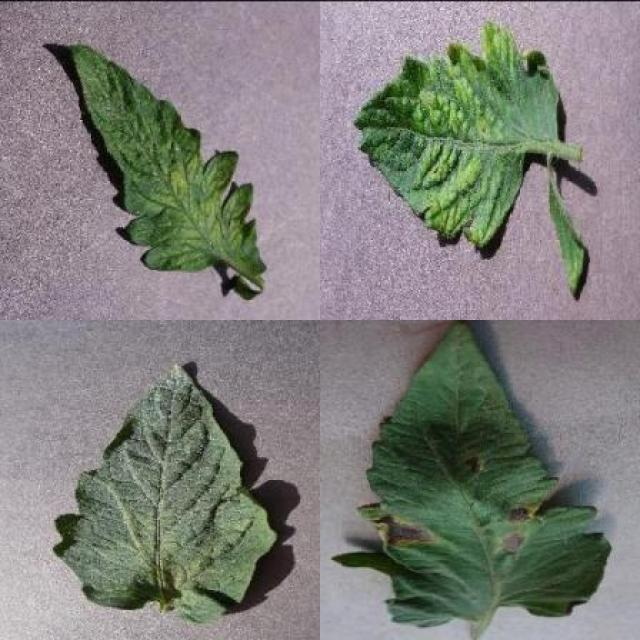Early Blight: (332, 320, 614, 629)
Mosaic Virus: (65, 42, 268, 278), (352, 20, 562, 247), (547, 175, 587, 298)
Spider Mites: (51, 362, 276, 624)
